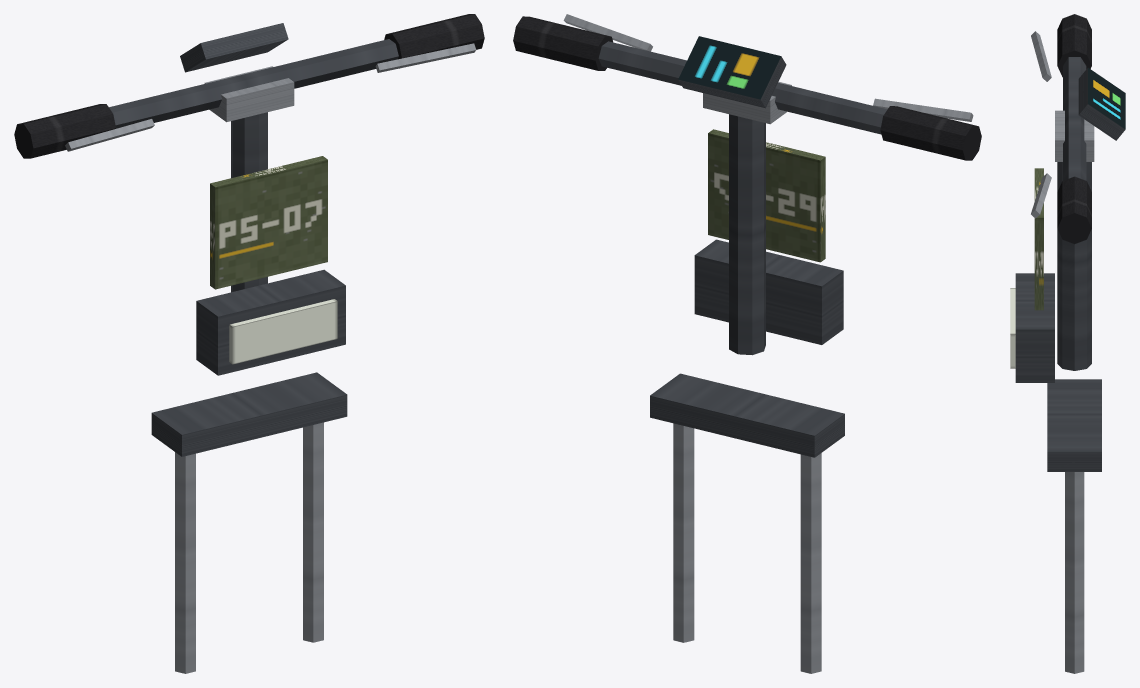
Rendered from pod_scooter_steer.fbx.
3 views of the same model, side by side, from view 1: azimuth 30°, elevation 25°; view 2: azimuth 150°, elevation 25°; view 3: azimuth 270°, elevation 25° (orthographic). The views are drawn at different scales.
Visible parts, largest first — view 1: pod_scooter_steer; view 2: pod_scooter_steer; view 3: pod_scooter_steer.
Part boxes in pixels (x1=…): pod_scooter_steer: x1=14, y1=14, x2=484, y2=673; pod_scooter_steer: x1=513, y1=14, x2=981, y2=673; pod_scooter_steer: x1=1010, y1=14, x2=1125, y2=673.
Bounding box in the file's own units: 60 × 78.1 × 14.7.
Materials: 1 (1 with a texture image).
